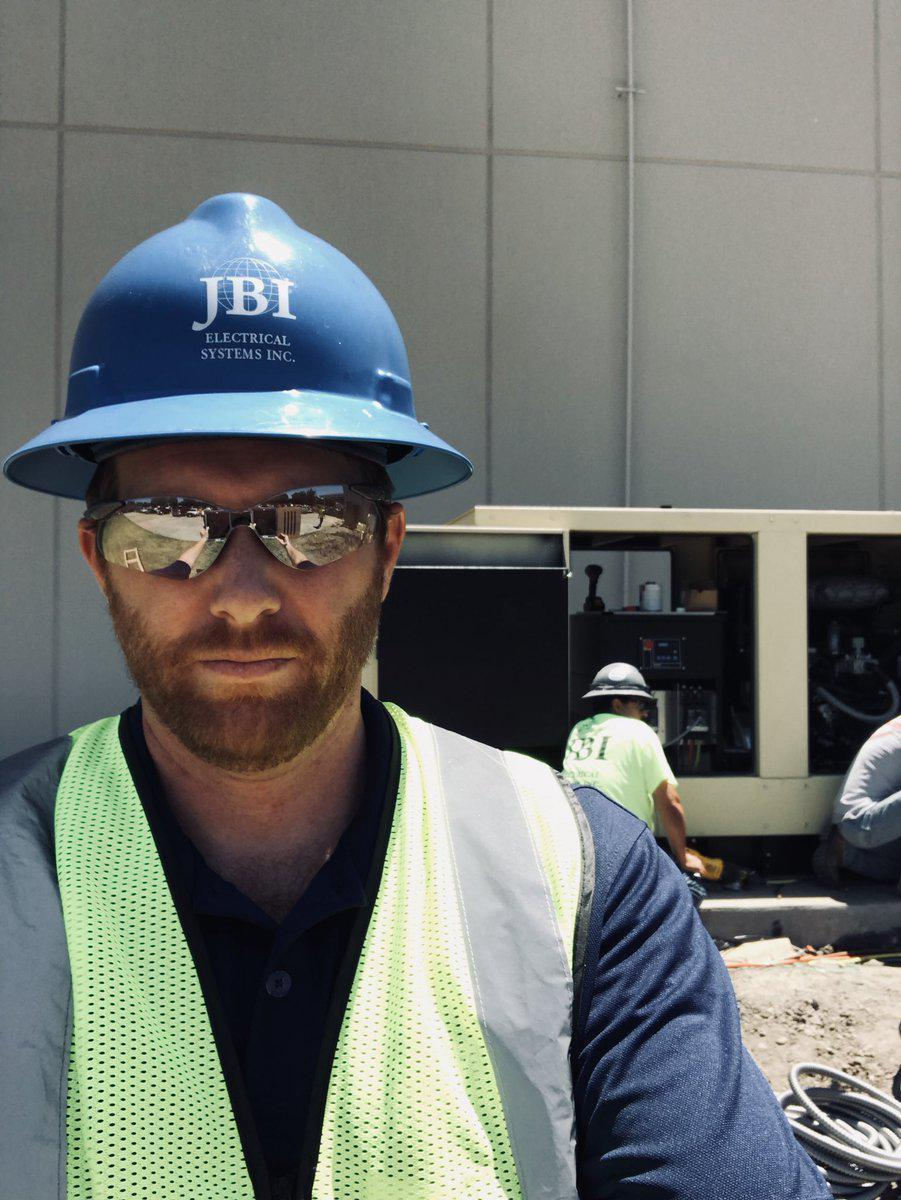helmet: (2, 194, 475, 499)
